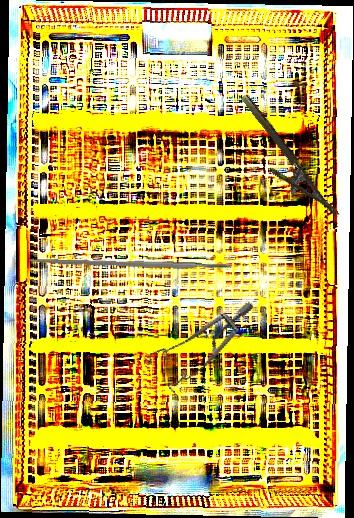Needle Holder: (224, 92, 341, 233)
Scalpel Handle: (28, 256, 232, 272)
Speculum: (135, 271, 255, 410)
